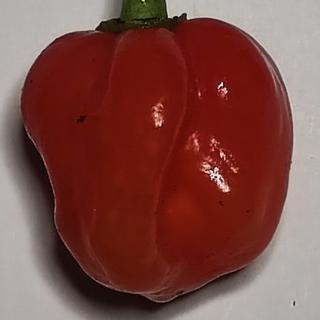Fly-bites: (68, 104, 98, 134)
